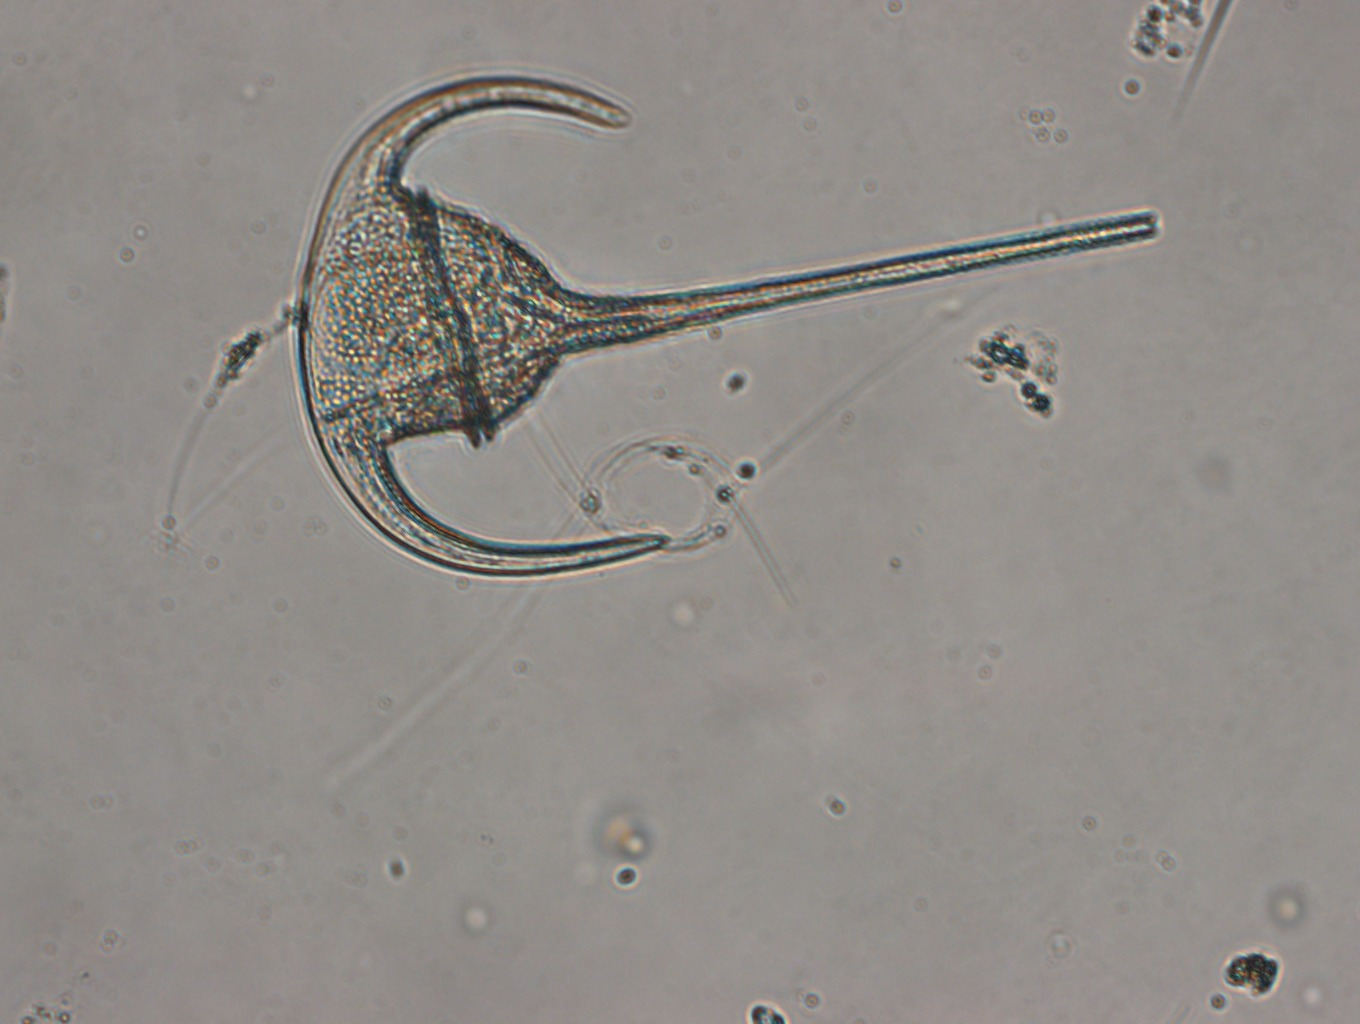ceratium tripos: (285, 63, 1165, 583)
